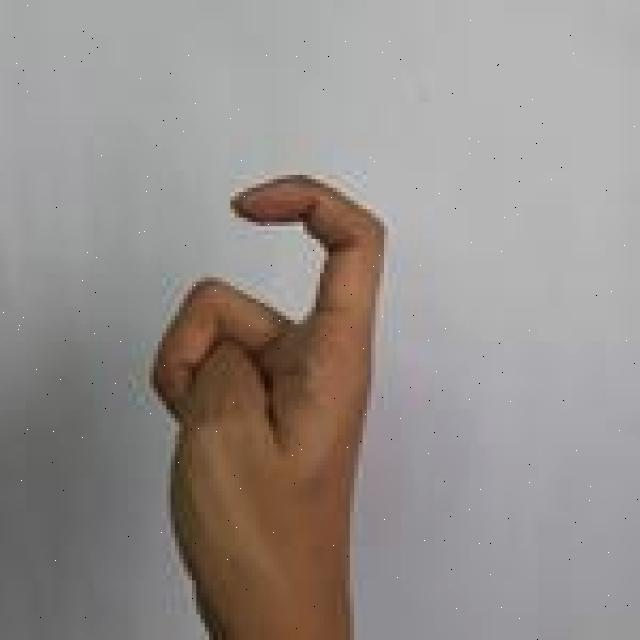X: (147, 169, 396, 640)
